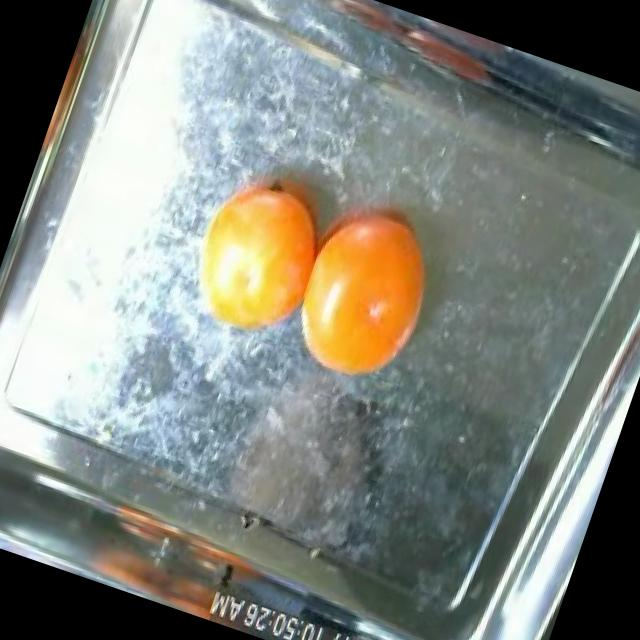Fruit: (156, 138, 356, 370), (276, 230, 448, 408)
